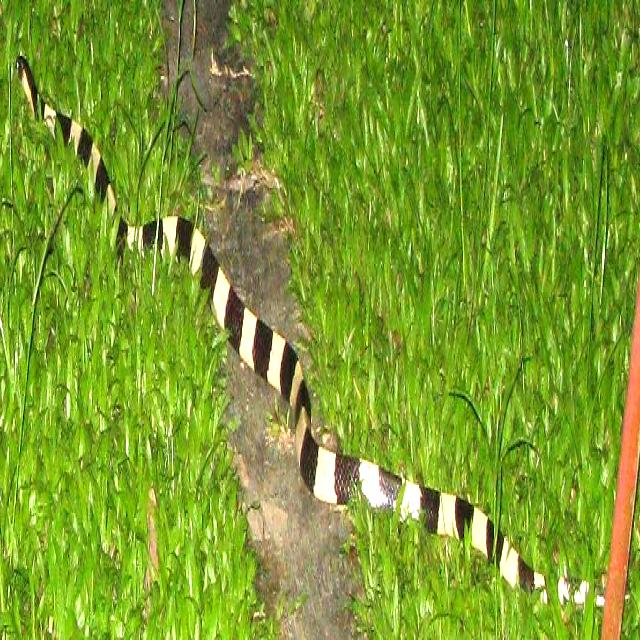Bungarus candidus: (117, 217, 548, 602)
